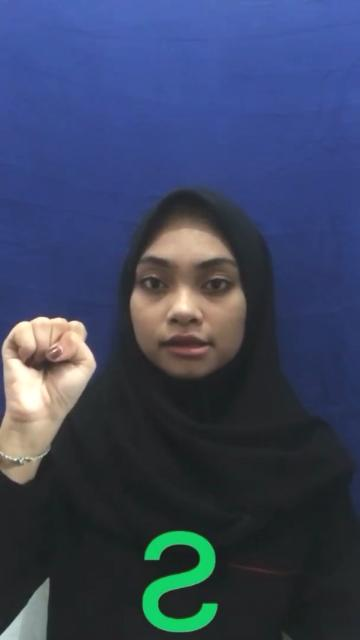S: (0, 312, 99, 431)
